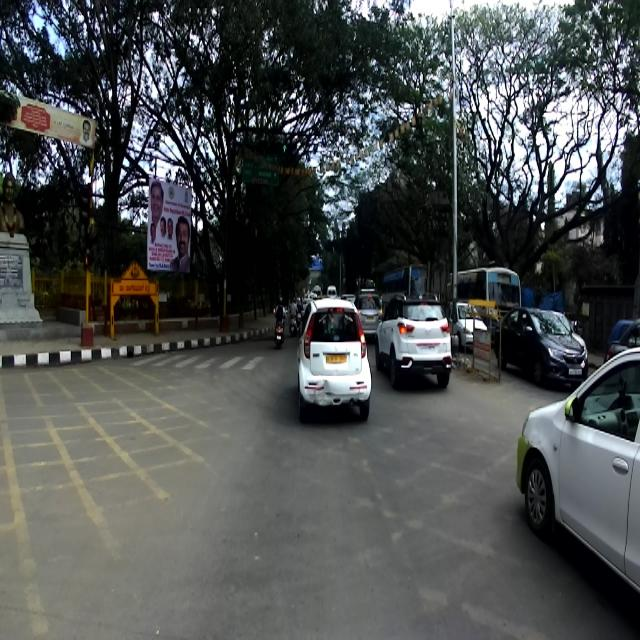car: (516, 346, 640, 594), (296, 295, 372, 423), (493, 307, 588, 392), (375, 292, 451, 390)
